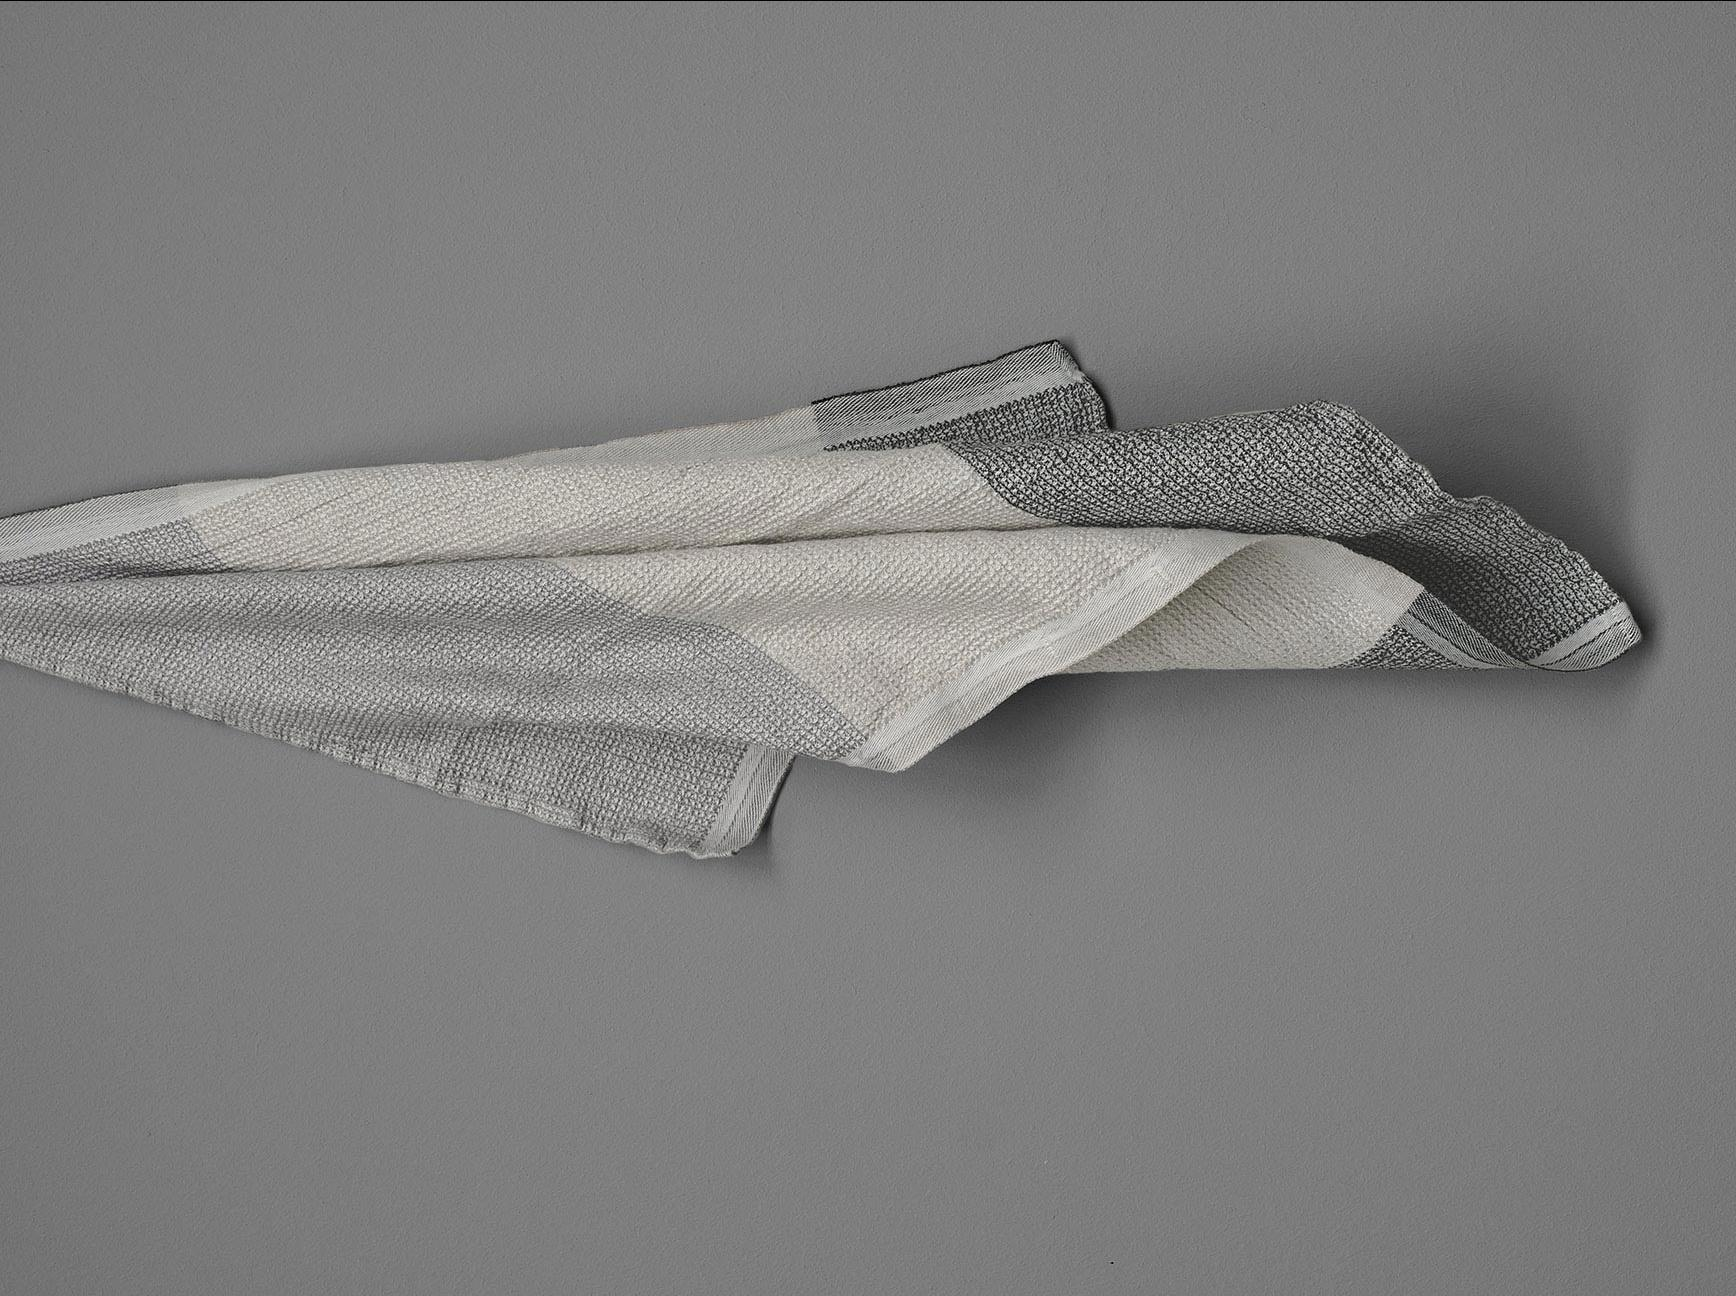towel: (0, 280, 1736, 950)
